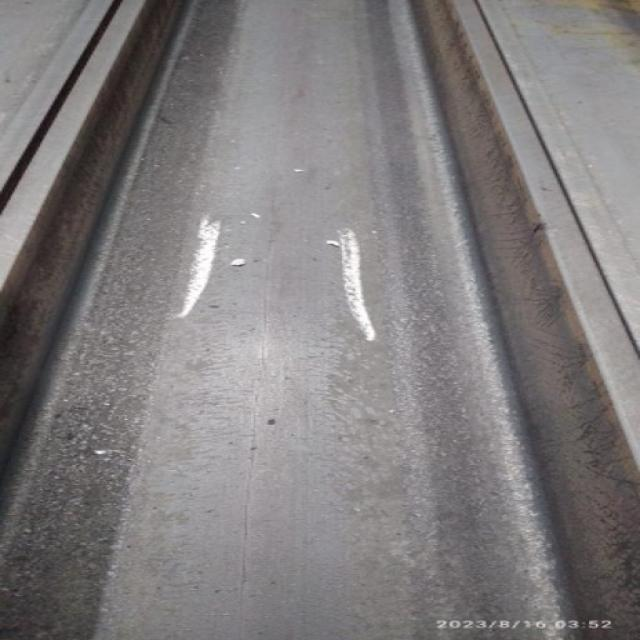defect: (470, 0, 639, 358), (0, 0, 122, 213)
